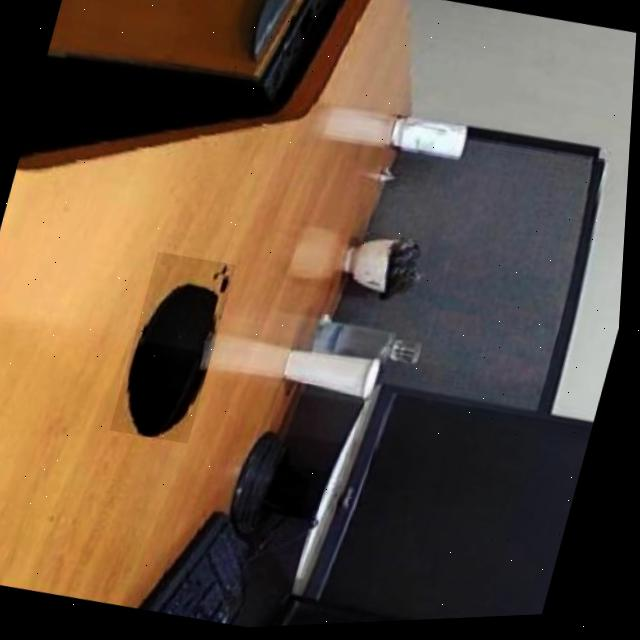spillage: (127, 266, 234, 436)
